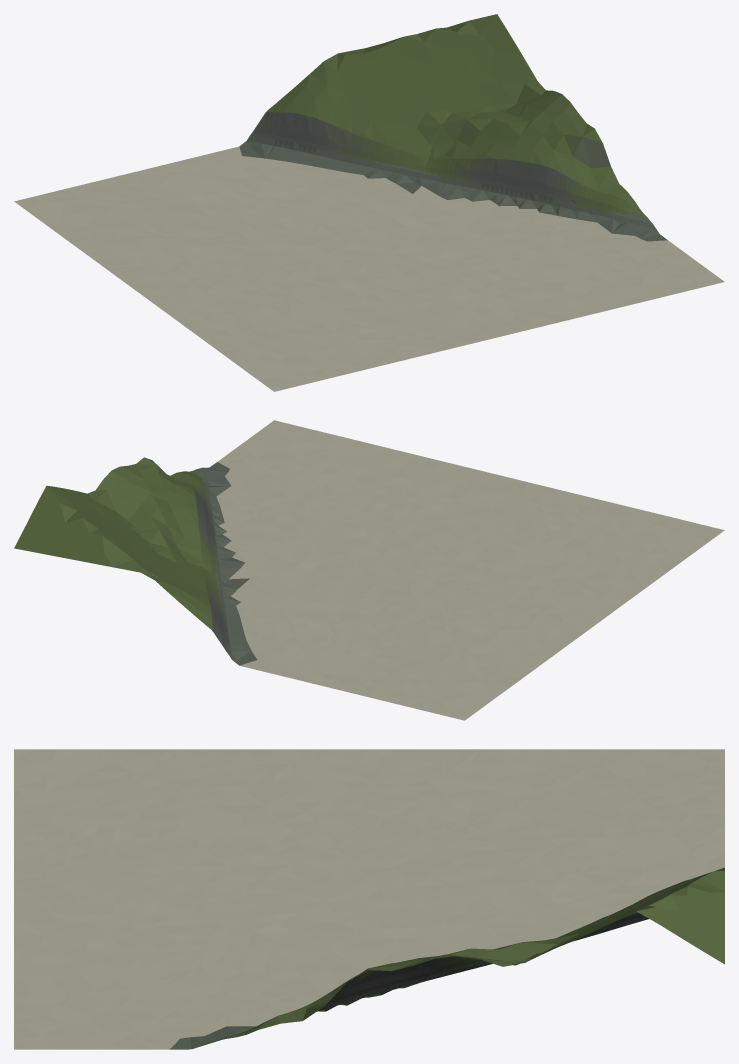
File: Ground_-5_-5.glb
3 views of the same model, one above another, from view 1: azimuth 30°, elevation 25°; view 2: azimuth 150°, elevation 25°; view 3: azimuth 270°, elevation 25° (orthographic). The views are drawn at different scales.
Visible parts, largest first — view 1: Ground_-5_-5; view 2: Ground_-5_-5; view 3: Ground_-5_-5.
Part boxes in pixels (x1,y1,x2,y2): Ground_-5_-5: [14, 14, 724, 391]; Ground_-5_-5: [14, 420, 724, 720]; Ground_-5_-5: [14, 749, 724, 1049].
Size of the model in its own units: 768 by 165 by 768.
